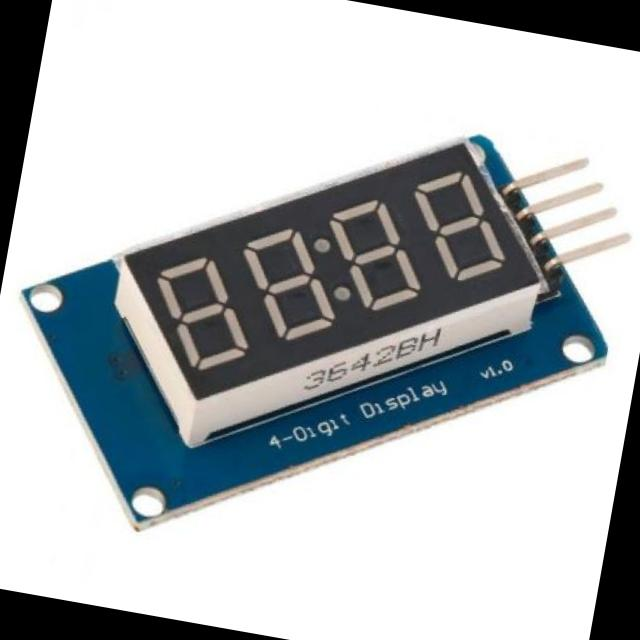connector: (498, 150, 640, 297)
